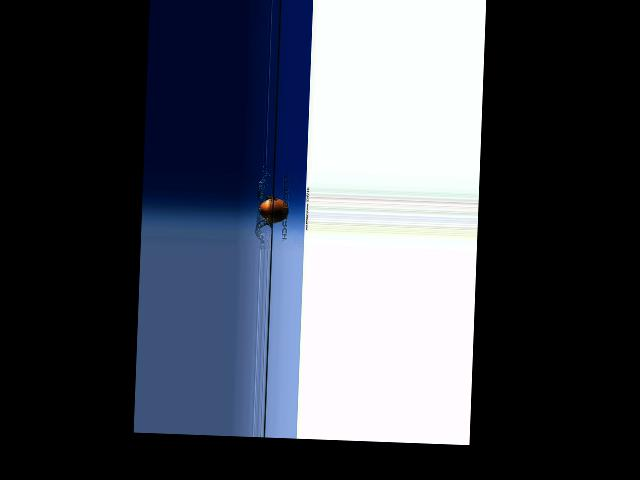egg: (259, 198, 288, 223)
